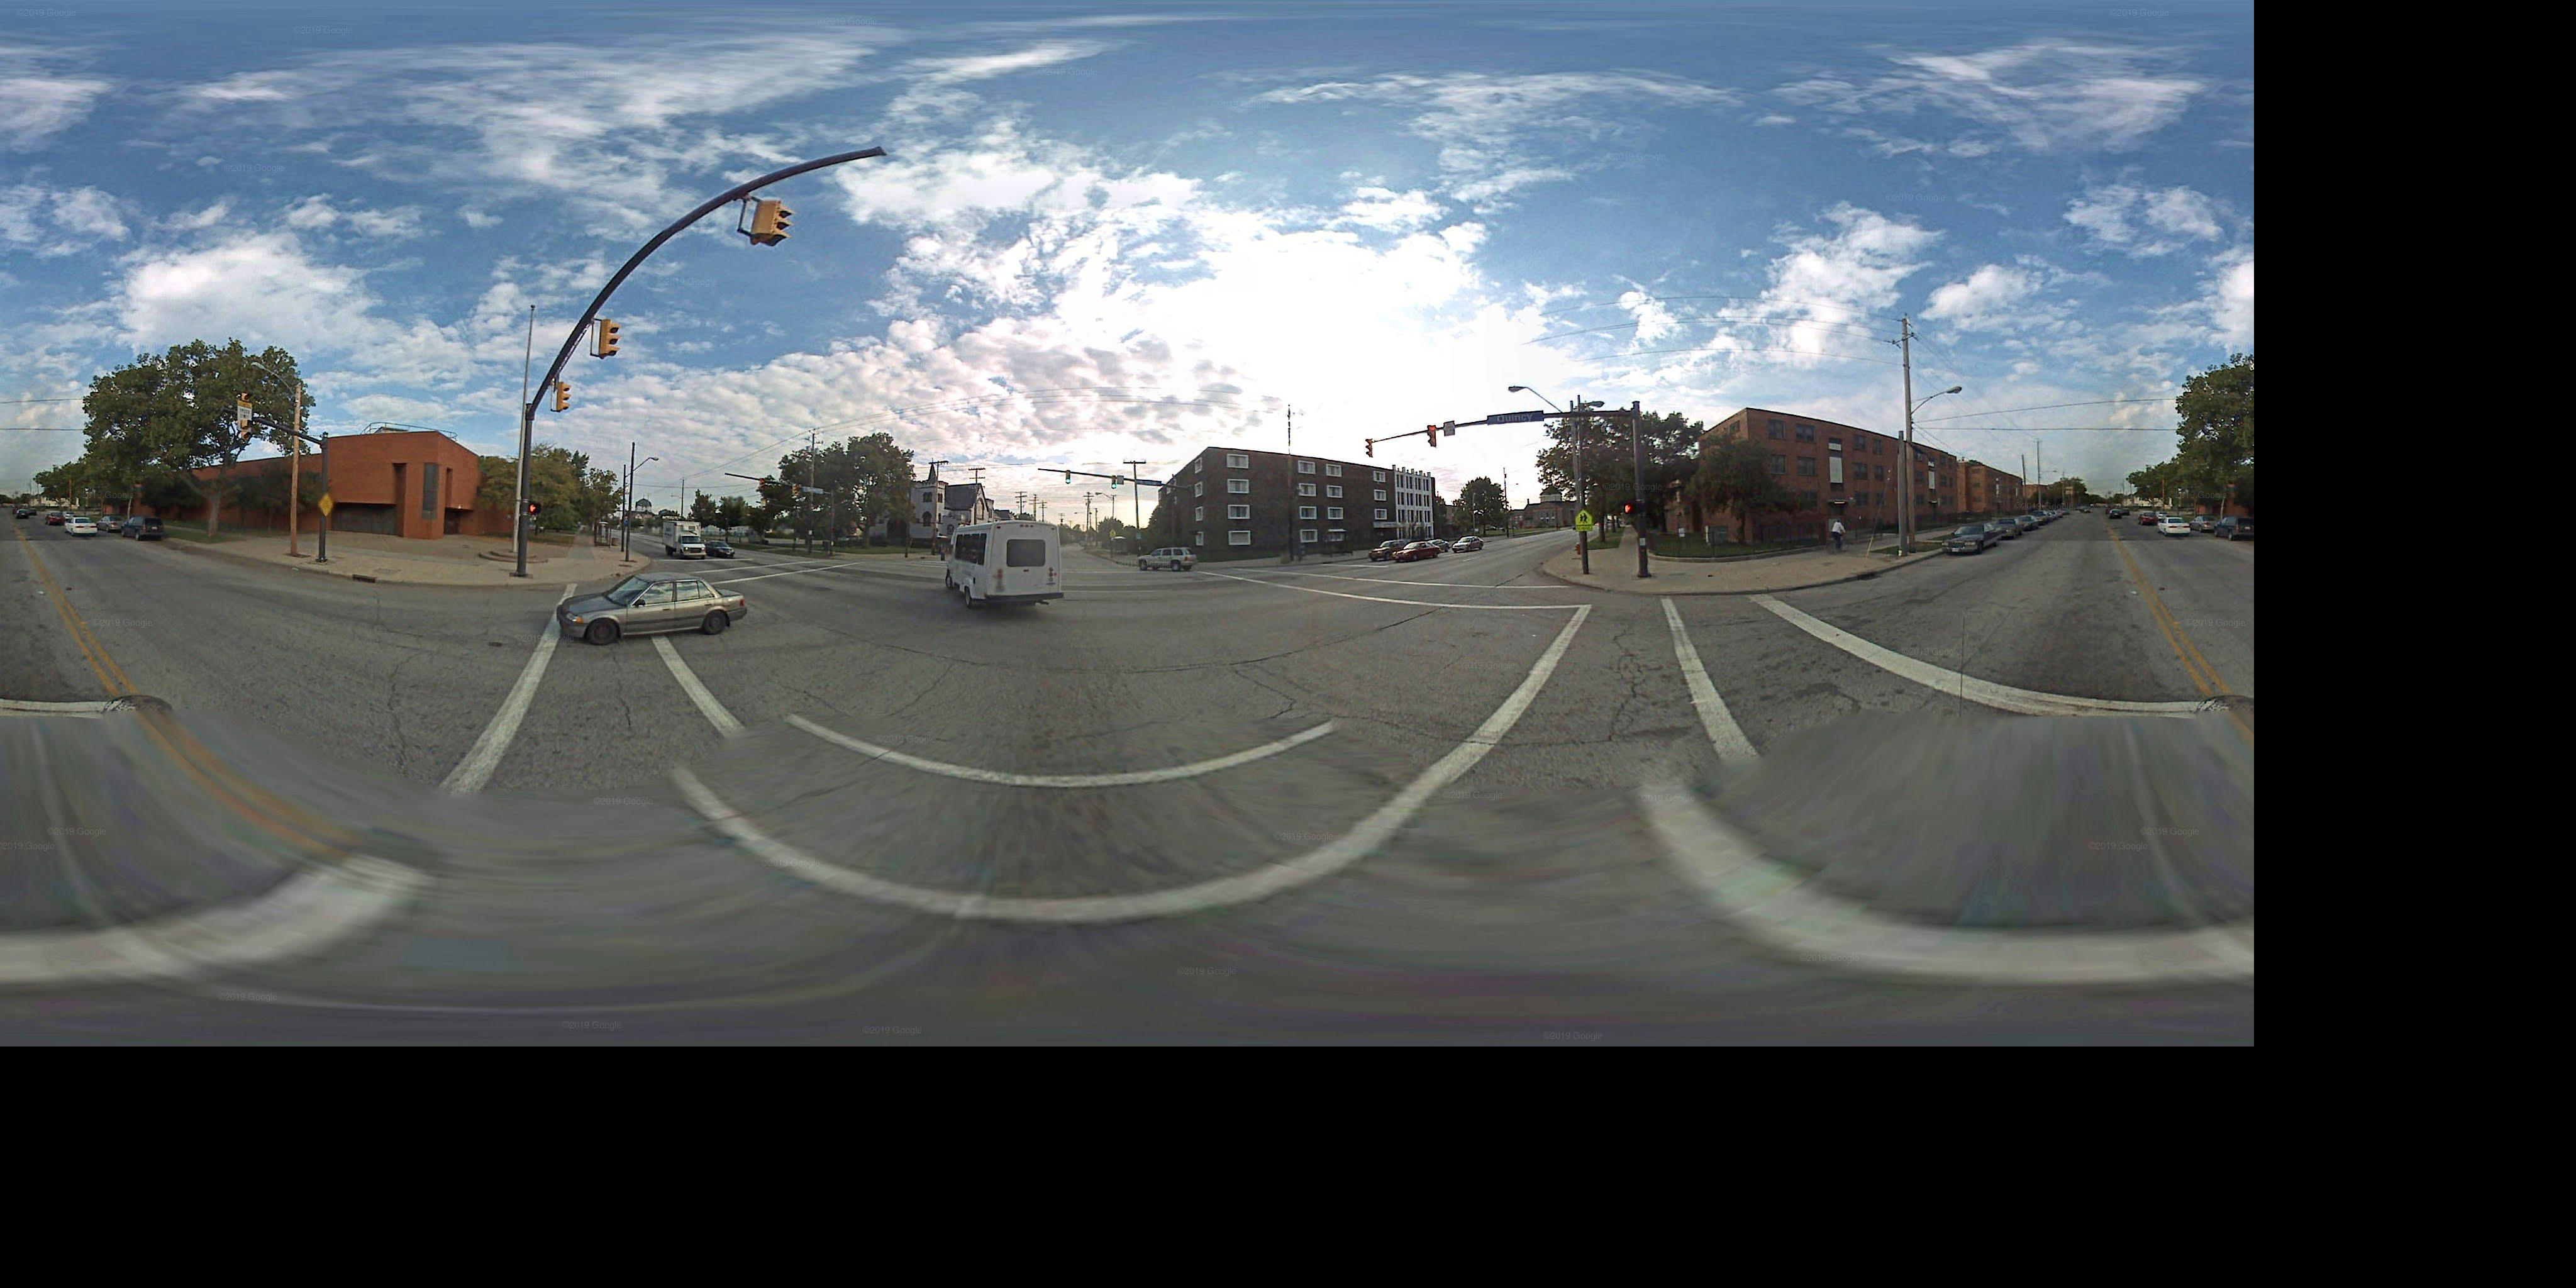Curb Ramp: (1610, 572, 1661, 603), (565, 567, 608, 590)
Missing Curb Ramp: (1571, 570, 1607, 600)
